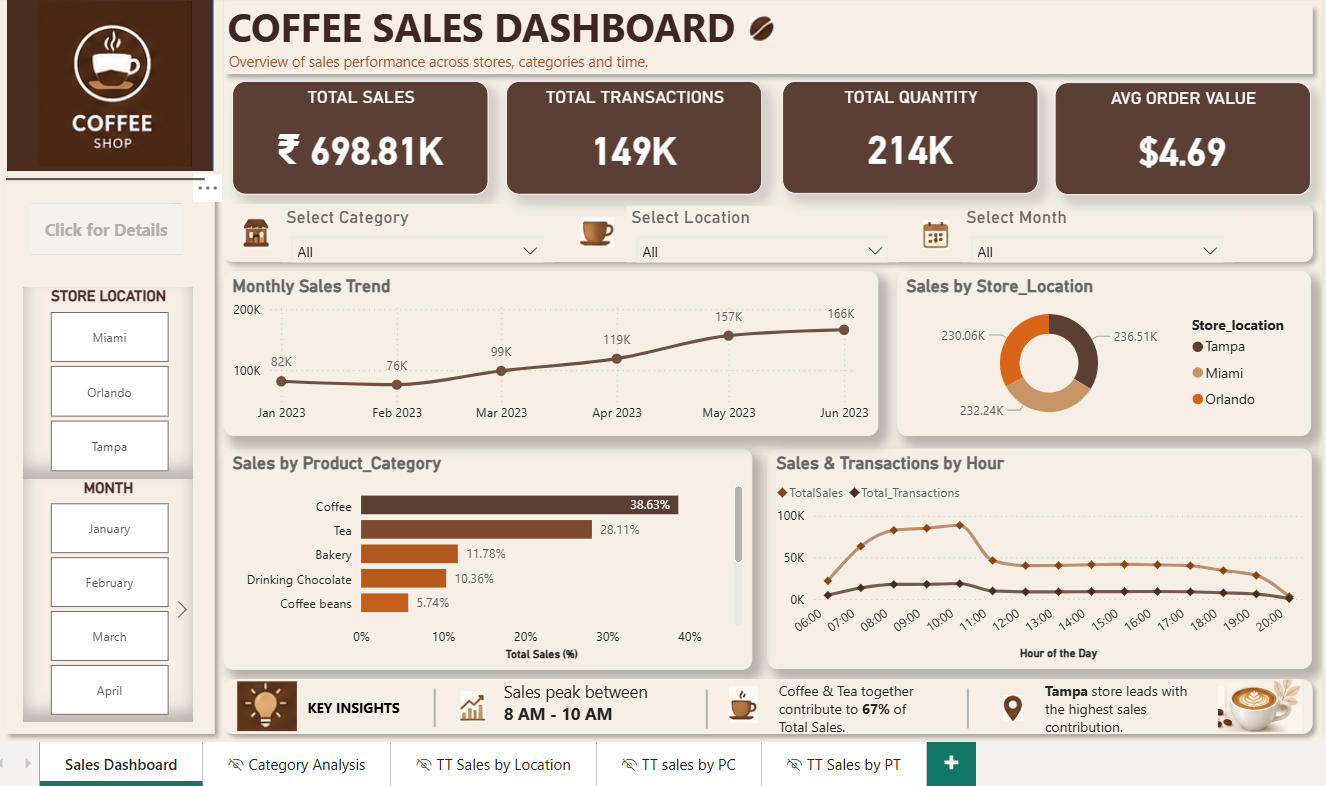

This screenshot's page, from the dashboard's own definition file:
{"tool":"powerbi","page":{"name":"Sales Dashboard","canvas":[1280,720],"ordinal":0},"visuals":[{"type":"card","title":"TOTAL SALES","fields":{"Values":["BilingCoffeesales.TotalSales"]},"box":[228,82,247.3,109.8],"z":0},{"type":"shape","box":[9.6,0,200.3,192.1],"z":1000},{"type":"shape","box":[211.4,0,1068.6,84.3],"z":2000},{"type":"shape","box":[0,160,219.8,560.7],"z":3000},{"type":"donutChart","title":"Sales by Store_Location","fields":{"Category":["Store.store_location"],"Y":["BilingCoffeesales.TotalSales"]},"box":[869.8,265.4,399.3,159],"z":4000},{"type":"lineChart","title":"Sales & Transactions by Hour","fields":{"Category":["BilingCoffeesales.Hour_Label"],"Y":["BilingCoffeesales.TotalSales","BilingCoffeesales.Total_Transactions"]},"box":[744.3,437.1,525.7,213],"z":5000},{"type":"clusteredBarChart","title":"Sales by Product_Category ","fields":{"Category":["Product.product_category"],"Y":["BilingCoffeesales.GT%"]},"box":[219.6,436.7,510.3,213.5],"z":6000},{"type":"lineChart","title":"Monthly Sales Trend","fields":{"Y":["BilingCoffeesales.TotalSales"],"Category":["Data.transaction_date.Variation.Date Hierarchy.Year","Data.transaction_date.Variation.Date Hierarchy.Quarter","Data.transaction_date.Variation.Date Hierarchy.Month","Data.transaction_date.Variation.Date Hierarchy.Day"]},"box":[219.6,265.4,632.2,159.3],"z":7000},{"type":"slicer","title":"MONTH","fields":{"Values":["Data.Month Name"]},"box":[26.5,465.7,164.1,235.3],"z":8000},{"type":"textbox","box":[218.4,0,943.4,63.9],"z":10000},{"type":"textbox","box":[219.6,48.3,1060.5,36.2],"z":11000},{"type":"image","box":[705.8,14.5,66.4,33.8],"z":12000},{"type":"shape","box":[209.9,191.8,1070.1,73.6],"z":13000},{"type":"slicer","title":"Select Category","fields":{"Values":["Product.product_category"]},"box":[275.1,202.7,263,54.3],"z":14000},{"type":"slicer","title":"Select Month","fields":{"Values":["Data.Month"]},"box":[930.8,203.1,263,54.3],"z":15000},{"type":"slicer","title":"STORE LOCATION","fields":{"Values":["Store.store_location"]},"box":[26.5,281.1,164.1,184.6],"z":16000},{"type":"card","title":"TOTAL TRANSACTIONS","fields":{"Values":["BilingCoffeesales.Total_Transactions"]},"box":[492.2,82,247.3,109.8],"z":17000},{"type":"slicer","title":"Select Location","fields":{"Values":["Store.store_location"]},"box":[608.6,202.9,263,54.3],"z":18000},{"type":"card","title":"AVG ORDER VALUE","fields":{"Values":["BilingCoffeesales.Avg Order Value"]},"box":[1021.9,83.2,247.3,108.6],"z":19000},{"type":"card","title":"TOTAL QUANTITY","fields":{"Values":["BilingCoffeesales.Total Quantity Sold"]},"box":[758.9,82,247.3,108.6],"z":20000},{"type":"image","box":[228.2,210.1,47.3,39],"z":21000},{"type":"image","box":[552.9,208.6,55.7,38.6],"z":22000},{"type":"shape","box":[210.1,649.7,1069.9,71],"z":23000},{"type":"image","box":[1161.7,655.3,118.3,59.8],"z":24000},{"type":"image","box":[882.9,211.4,49,38.6],"z":25000},{"type":"image","box":[10,0,210,170],"z":26000},{"type":"image","box":[228,650.3,67.6,70],"z":27000},{"type":"textbox","box":[295.6,673.2,488.6,27.7],"z":28000},{"type":"shape","box":[371.6,668.4,103.8,37.4],"z":29000},{"type":"textbox","box":[485.6,655.3,297.7,59.8],"z":30000},{"type":"shape","box":[634.4,669.2,103,37.6],"z":31000},{"type":"shape","box":[886.6,668.5,102.6,38.5],"z":32000},{"type":"textbox","box":[750,655.7,202.9,64.3],"z":33000},{"type":"textbox","box":[1007.1,655.7,244.3,64.3],"z":34000},{"type":"image","box":[435.7,665.7,50,40],"z":35000},{"type":"image","box":[695.7,661.4,50,45.7],"z":36000},{"type":"image","box":[957.1,670,50,35.7],"z":37000},{"type":"shape","box":[9.7,84.5,191.8,184.6],"z":38000},{"type":"actionButton","box":[32.6,200.3,147.2,49.5],"z":39001}]}

Visuals, with their boxes on the page's 1280x720 design canvas (x1, y1, x2, y2). These are canvas units, not pixel positions in the 1326x786 screenshot, which may show the page scaled, cropped or inside an application window:
"TOTAL SALES" card: BBox(228, 82, 475, 192)
shape: BBox(10, 0, 210, 192)
shape: BBox(211, 0, 1280, 84)
shape: BBox(0, 160, 220, 721)
"Sales by Store_Location" donutChart: BBox(870, 265, 1269, 424)
"Sales & Transactions by Hour" lineChart: BBox(744, 437, 1270, 650)
"Sales by Product_Category " clusteredBarChart: BBox(220, 437, 730, 650)
"Monthly Sales Trend" lineChart: BBox(220, 265, 852, 425)
"MONTH" slicer: BBox(26, 466, 191, 701)
textbox: BBox(218, 0, 1162, 64)
textbox: BBox(220, 48, 1280, 84)
image: BBox(706, 14, 772, 48)
shape: BBox(210, 192, 1280, 265)
"Select Category" slicer: BBox(275, 203, 538, 257)
"Select Month" slicer: BBox(931, 203, 1194, 257)
"STORE LOCATION" slicer: BBox(26, 281, 191, 466)
"TOTAL TRANSACTIONS" card: BBox(492, 82, 740, 192)
"Select Location" slicer: BBox(609, 203, 872, 257)
"AVG ORDER VALUE" card: BBox(1022, 83, 1269, 192)
"TOTAL QUANTITY" card: BBox(759, 82, 1006, 191)
image: BBox(228, 210, 276, 249)
image: BBox(553, 209, 609, 247)
shape: BBox(210, 650, 1280, 721)
image: BBox(1162, 655, 1280, 715)
image: BBox(883, 211, 932, 250)
image: BBox(10, 0, 220, 170)
image: BBox(228, 650, 296, 720)
textbox: BBox(296, 673, 784, 701)
shape: BBox(372, 668, 475, 706)
textbox: BBox(486, 655, 783, 715)
shape: BBox(634, 669, 737, 707)
shape: BBox(887, 668, 989, 707)
textbox: BBox(750, 656, 953, 720)
textbox: BBox(1007, 656, 1251, 720)
image: BBox(436, 666, 486, 706)
image: BBox(696, 661, 746, 707)
image: BBox(957, 670, 1007, 706)
shape: BBox(10, 84, 202, 269)
actionButton: BBox(33, 200, 180, 250)
